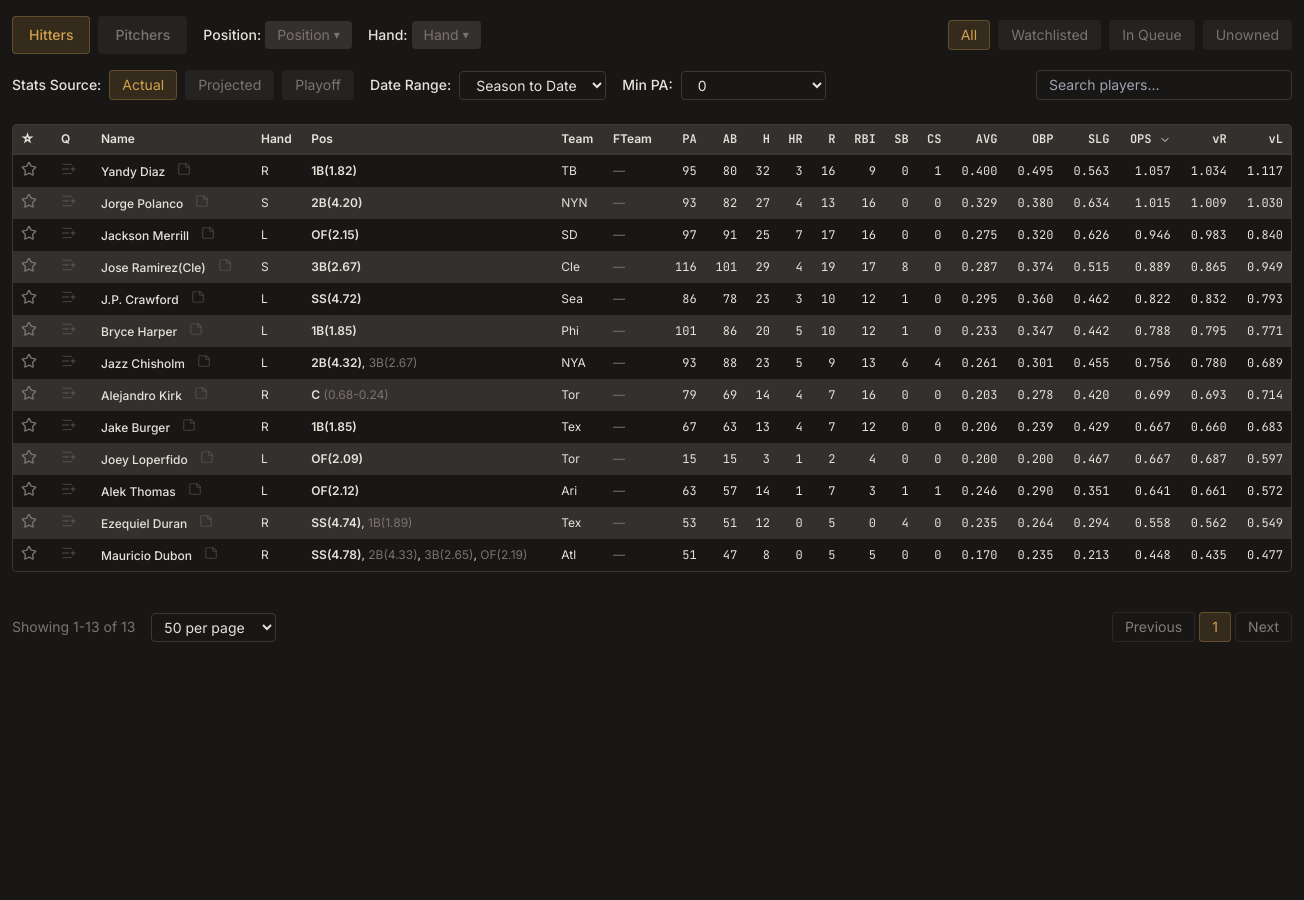
Scenario: PlayersTable › switching to Pitchers tab shows pitcher names
The image size is (1304, 900).
Click the button "Pitchers": coordinates (143, 35) left=98, top=16, right=187, bottom=54
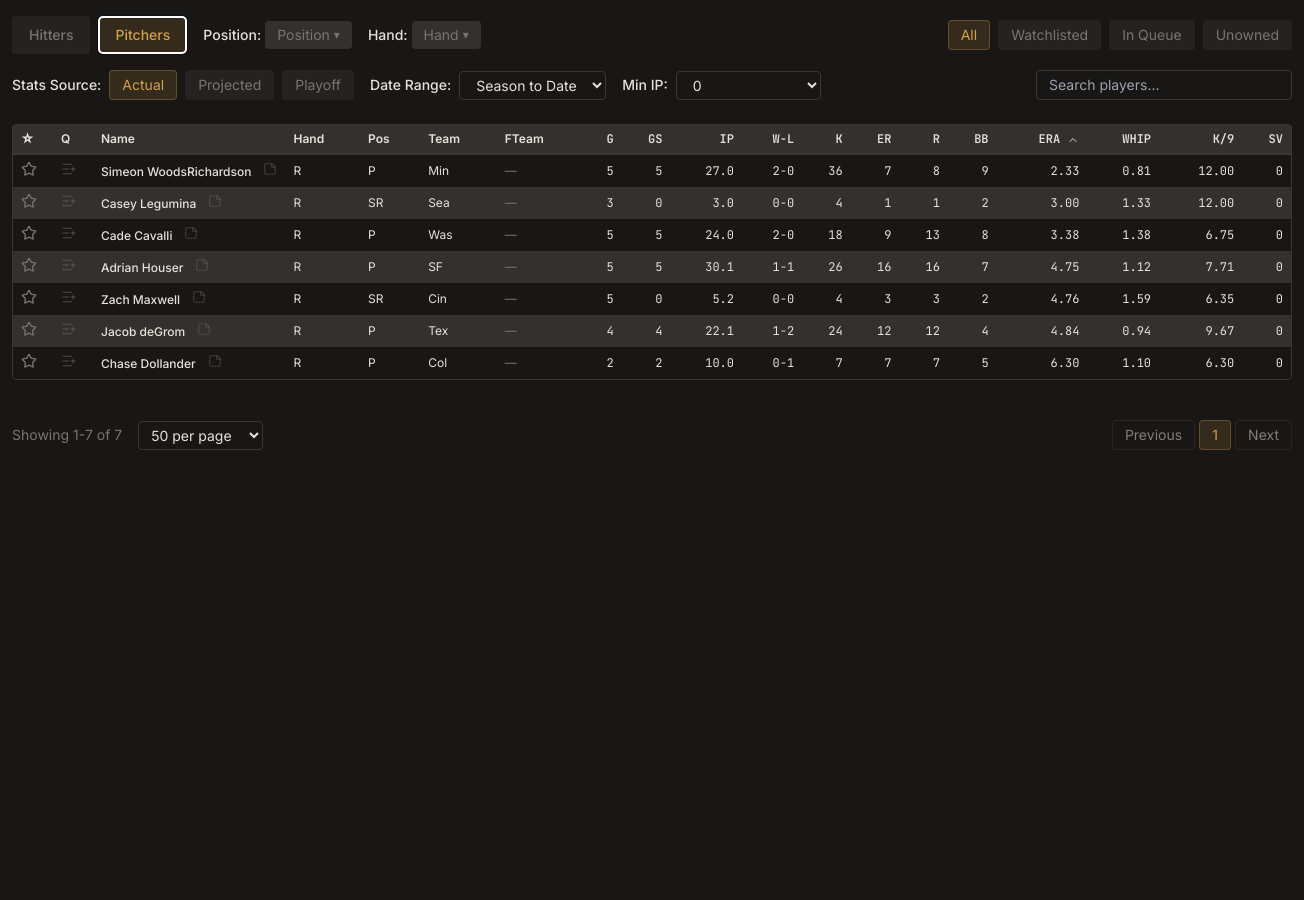
Expected: the link "Cade Cavalli" is shown, left=101, top=228, right=172, bottom=243
